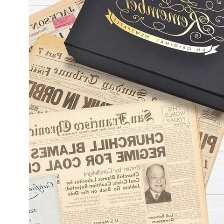news_paper: (28, 31, 224, 194), (6, 95, 211, 224), (23, 0, 88, 60)
